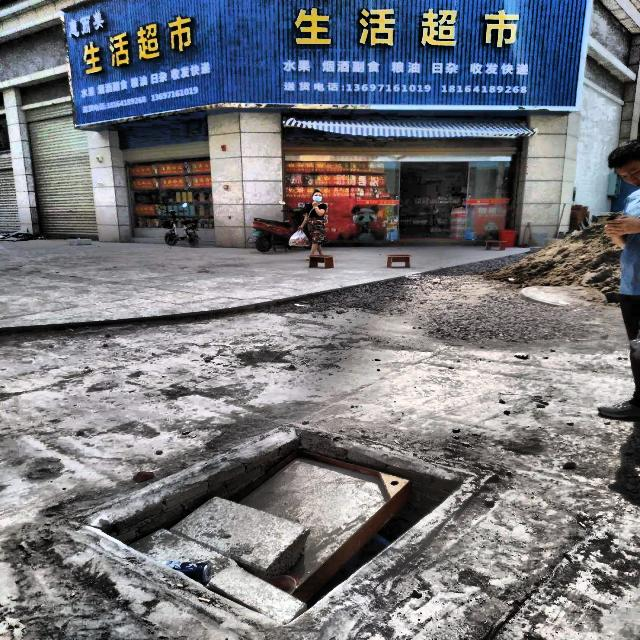open_manhole: (75, 427, 461, 609)
